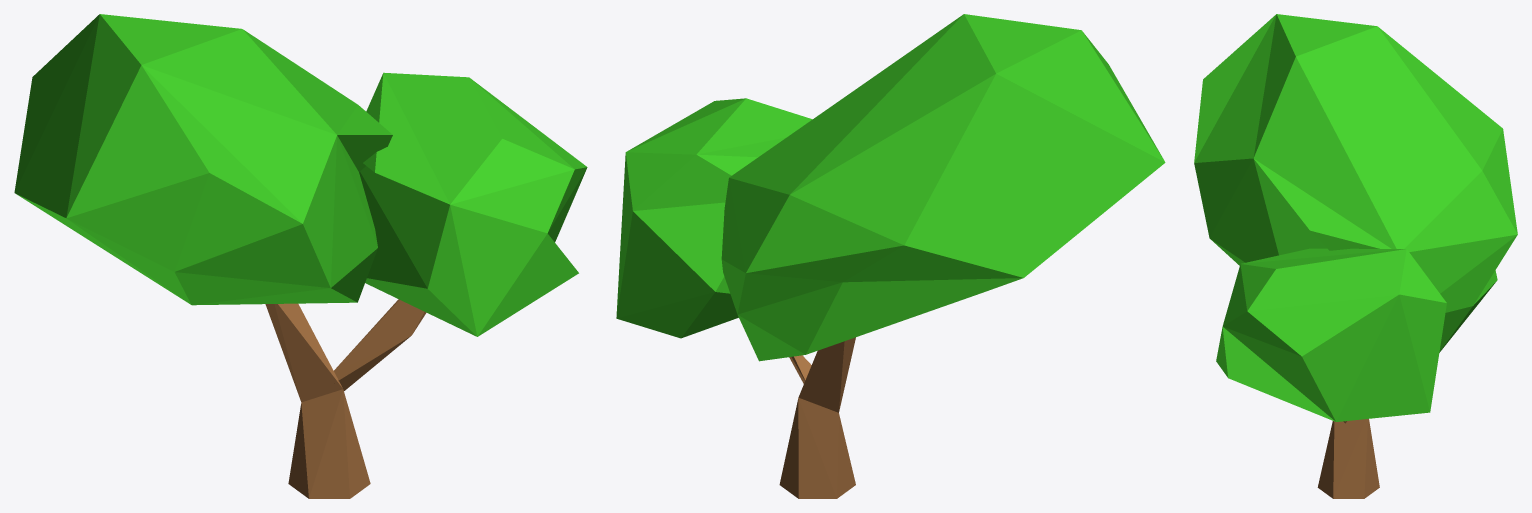
The model's file is bush1.fbx.
3 views of the same model, side by side, from view 1: azimuth 30°, elevation 25°; view 2: azimuth 150°, elevation 25°; view 3: azimuth 270°, elevation 25° (orthographic). The views are drawn at different scales.
Parts seen in each view (by area): view 1: bush1; view 2: bush1; view 3: bush1.
Part boxes in pixels (left/top/right/bottom): bush1: left=14, top=14, right=587, bottom=498; bush1: left=616, top=14, right=1165, bottom=498; bush1: left=1194, top=14, right=1517, bottom=498.
Bounding box in the file's own units: 1.96 × 1.76 × 1.33.
